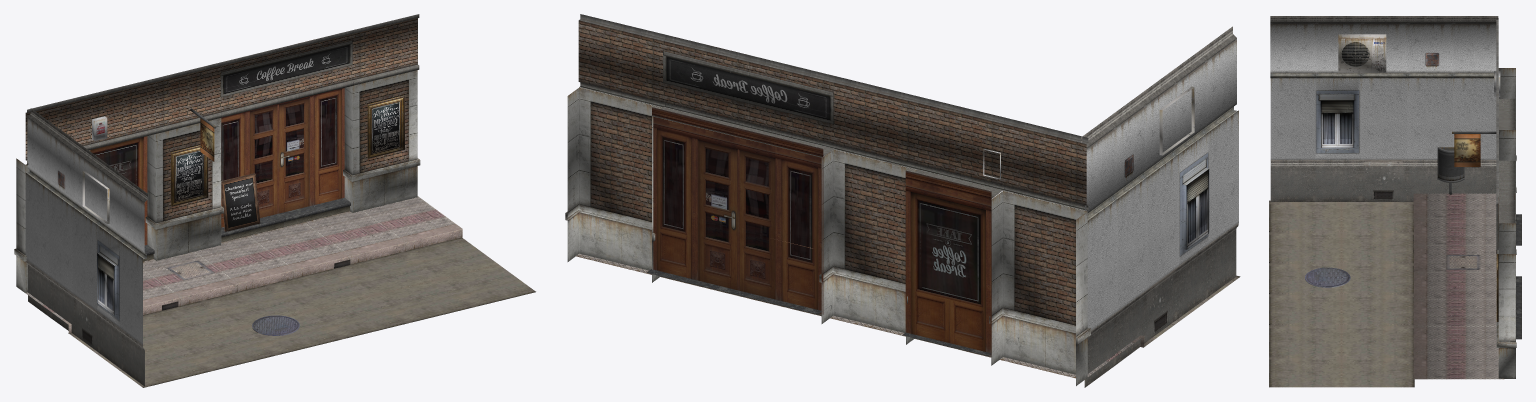
The model's file is modular.glb.
3 views of the same model, side by side, from view 1: azimuth 30°, elevation 25°; view 2: azimuth 150°, elevation 25°; view 3: azimuth 270°, elevation 25° (orthographic). The views are drawn at different scales.
Parts seen in each view (by area): view 1: Environment; view 2: Environment; view 3: Environment.
Boxes of the visible parts, box(x1,y1,x2,y2) form: Environment: box(14, 14, 535, 387); Environment: box(565, 14, 1240, 387); Environment: box(1269, 16, 1521, 387).
Size of the model in its own units: 803 by 378 by 457.
2 materials, 1 textured.
